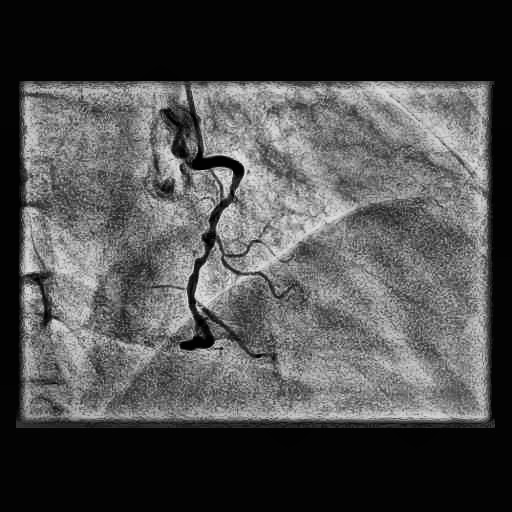rca: (182, 156, 243, 349)
